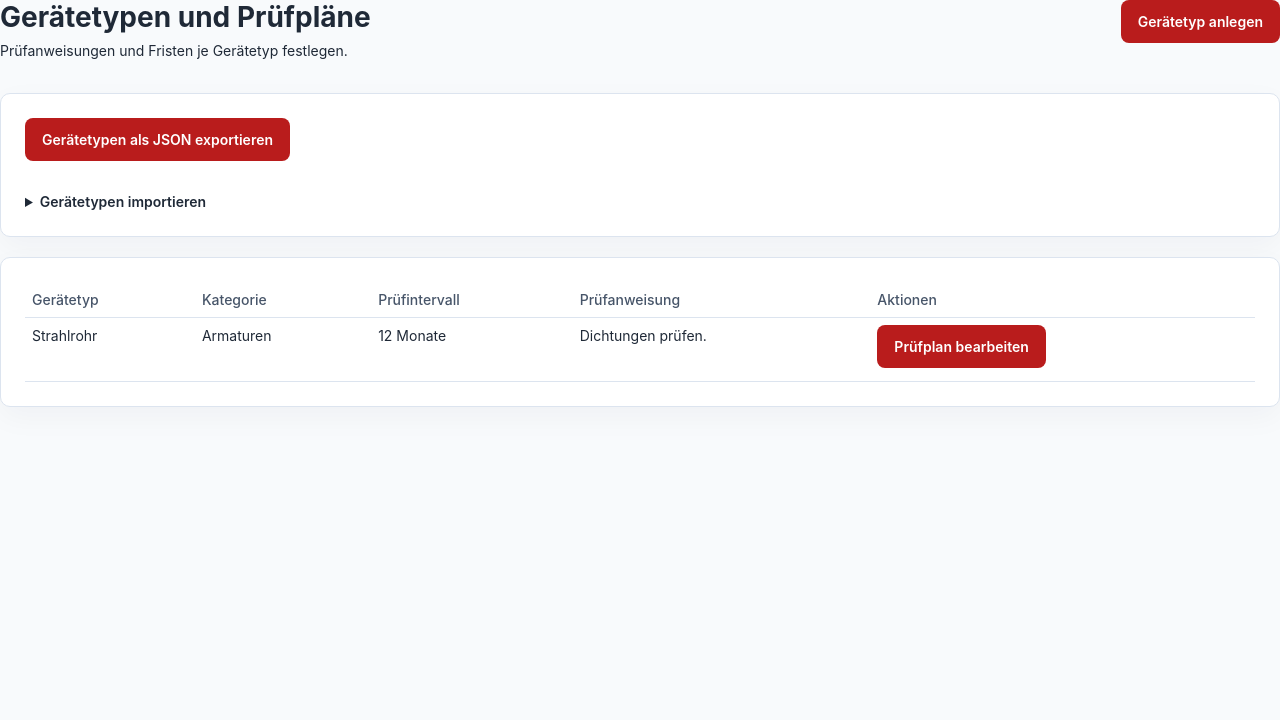
Test: edits the existing plan with its version and displays the saved result
This screenshot has width=1280, height=720.
Click the button with aria-label "Strahlrohr Prüfplan bearbeiten" at (962, 346), box [877, 325, 1046, 368]
(page scrolled)
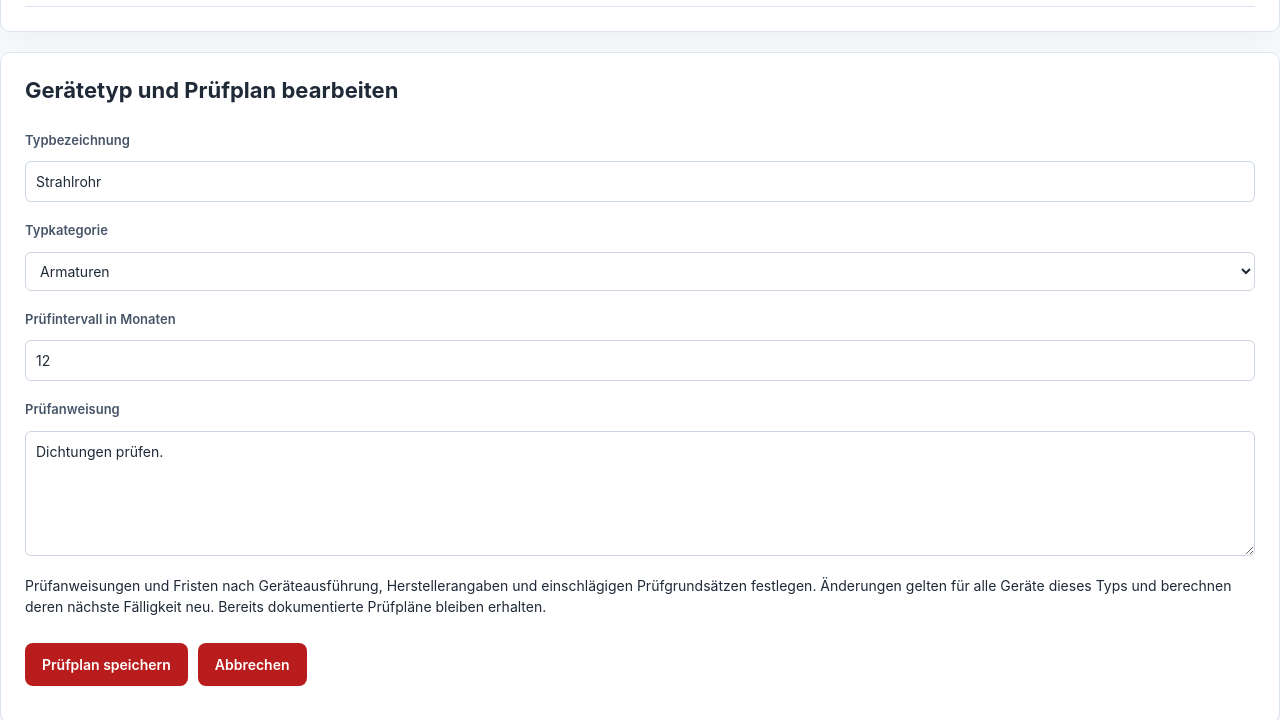
Expected: the text box labelled "Prüfanweisung" holds "Dichtungen prüfen.", [25, 430, 1255, 556]
Replace the text in the number field labelled "Prüfintervall in Monaten" with "6" at (640, 360), box [25, 340, 1255, 381]
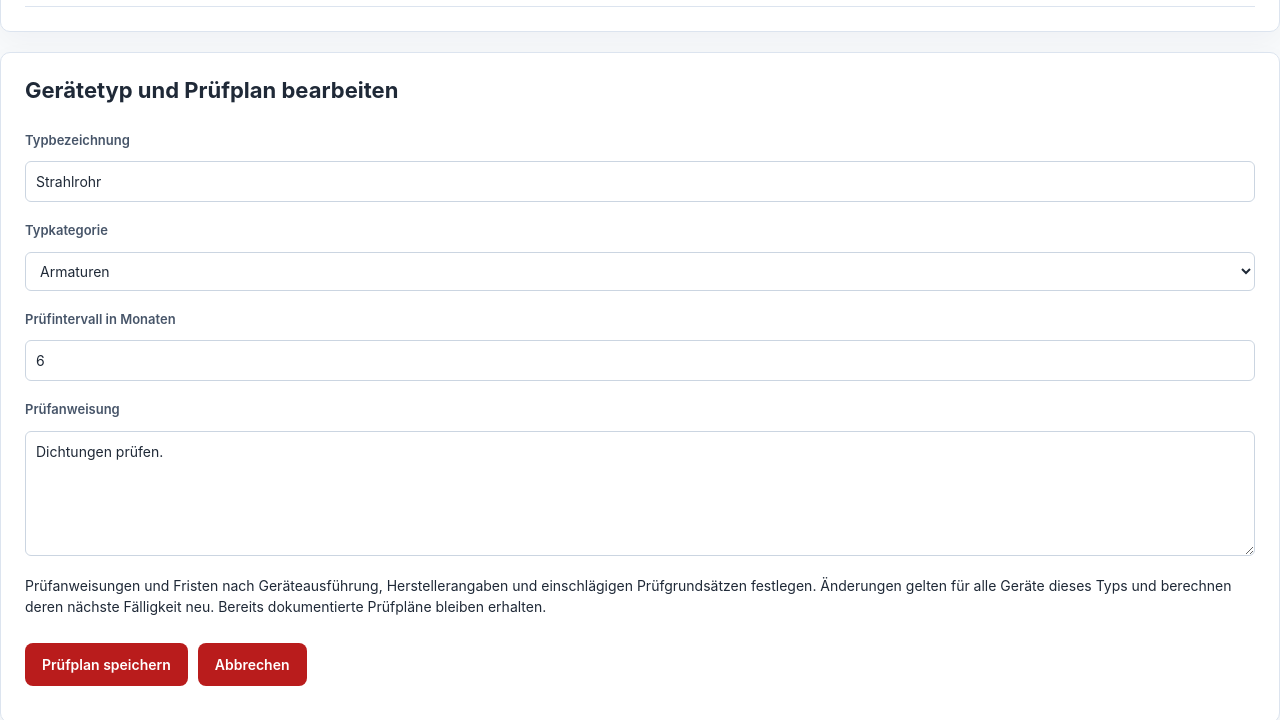
Click the button "Prüfplan speichern" at (106, 664), box [25, 642, 188, 686]
(page scrolled)
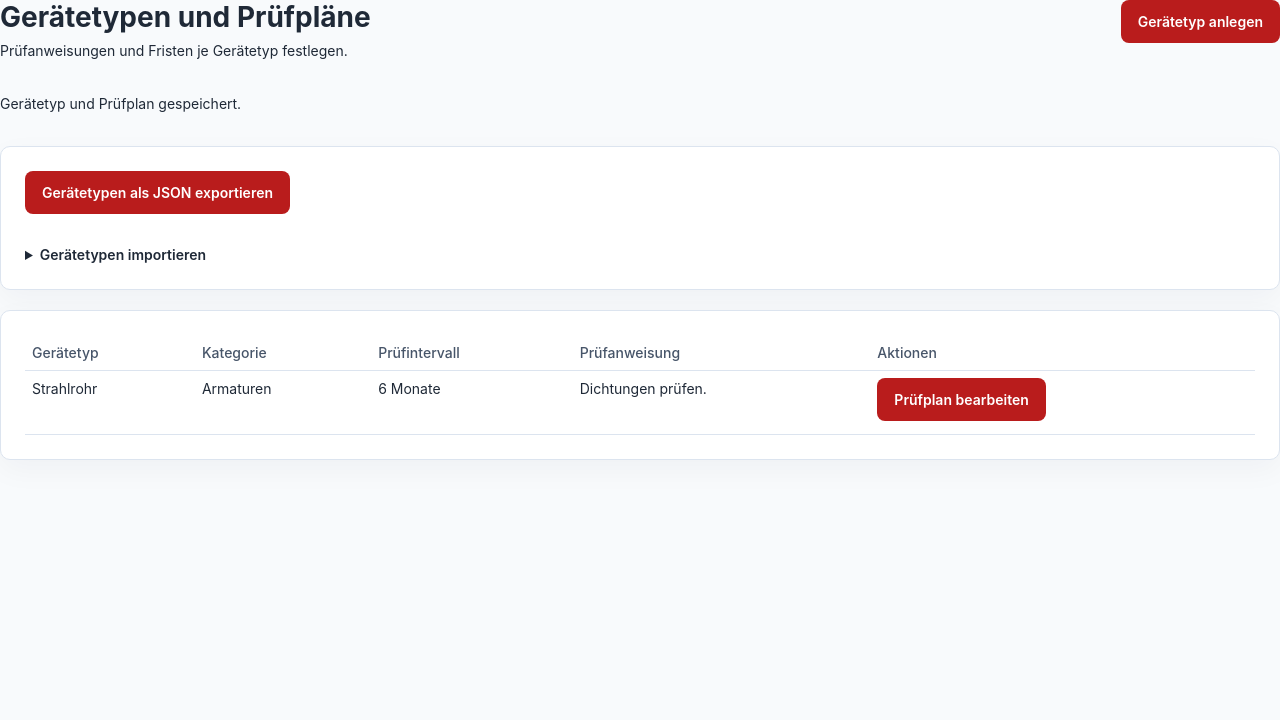
Expected: the text "6 Monate" is shown, [371, 370, 573, 434]
Expected: the label labelled "Typbezeichnung" is gone
